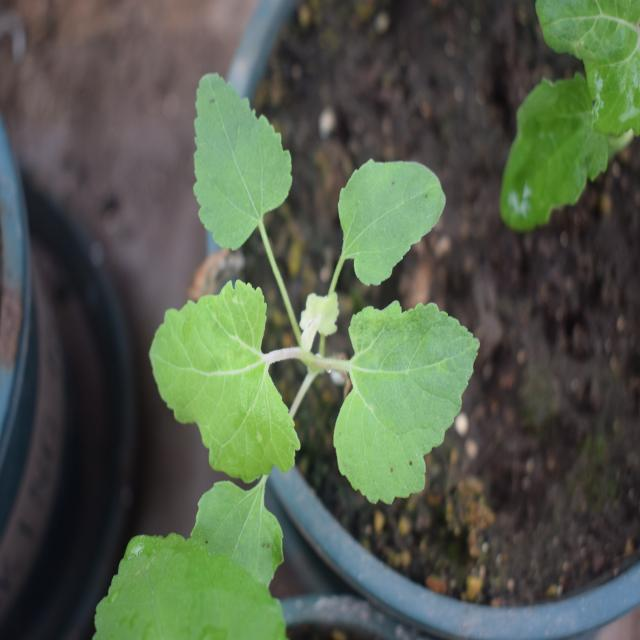cocklebur: (157, 96, 448, 523)
